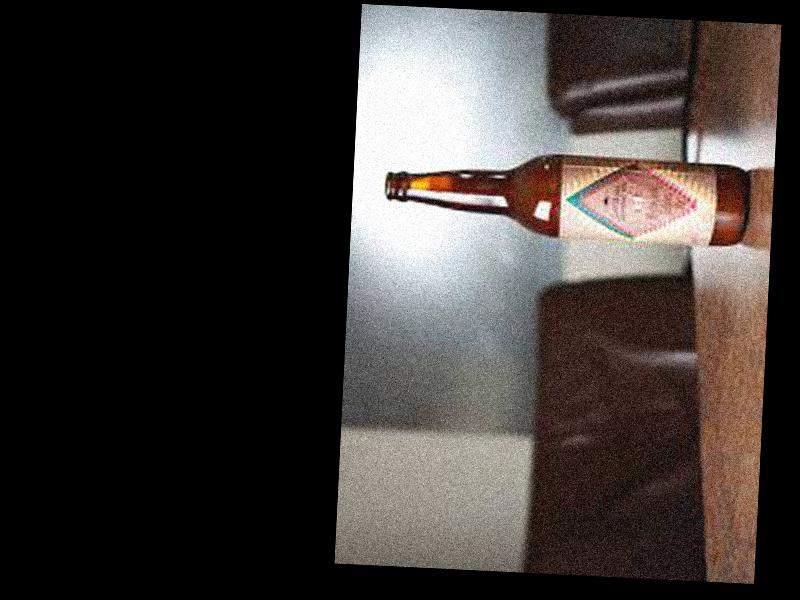Beer: (385, 147, 749, 244)
